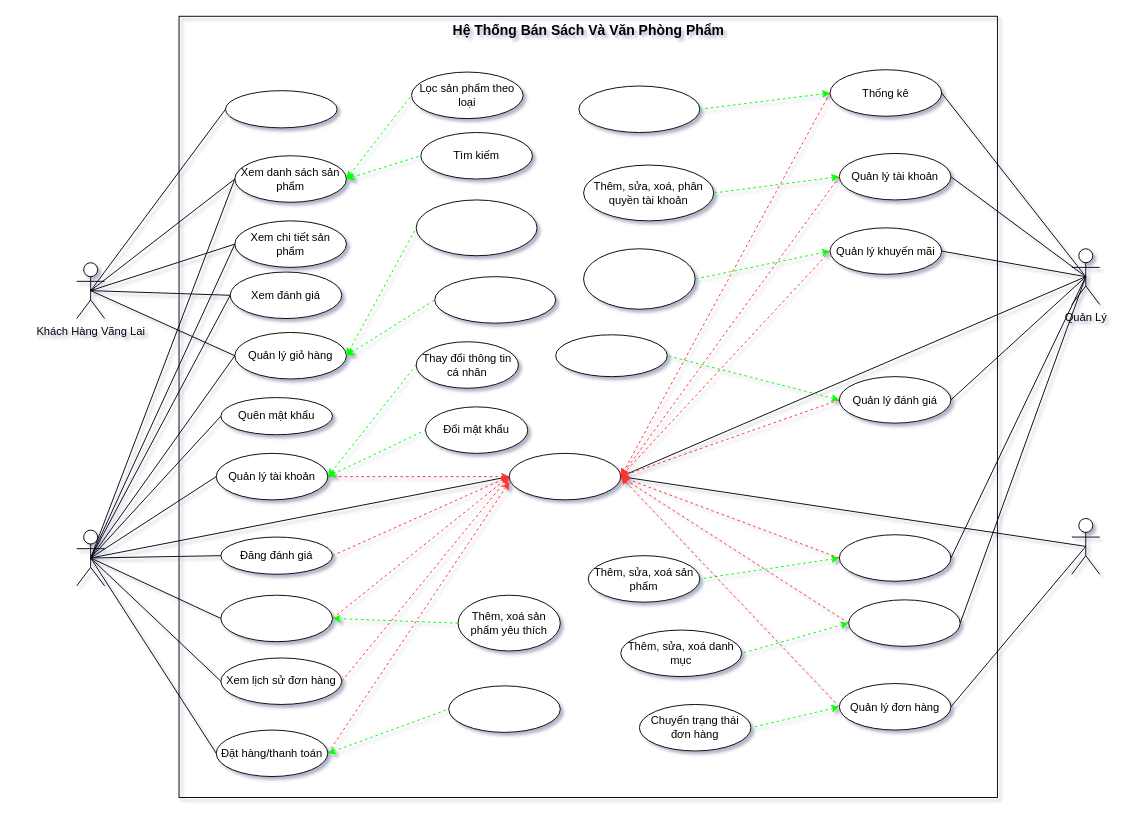
This 1134x819 diagram has some shape labels left out. The shapes that lost their labels are listed below. From the top down, each one's centre as x and y in pixels, then its label:
point 281,109: Đăng ký
point 639,109: Thống kê theo ngày, tháng, năm
point 476,227: Thêm, xoá sản phẩm trong giỏ hàng
point 639,278: Thêm, sửa, xoá, kích hoạt mã khuyến mãi
point 495,299: Điều chỉnh số lượng trong giỏ hàng
point 611,355: Xoá đánh giá
point 564,476: Đăng nhập
point 90,557: Khách Hàng Đã Có Tài Khoản
point 894,557: Quản lý sản phẩm
point 1085,546: Nhân Viên
point 276,618: Quản lý sản phẩm yêu thích
point 904,622: Quản lý danh mục
point 504,708: Sử dụng mã giảm giá
